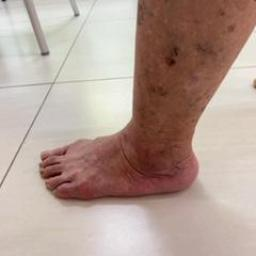Lateral View -Left Foot-: (20, 99, 230, 220)
